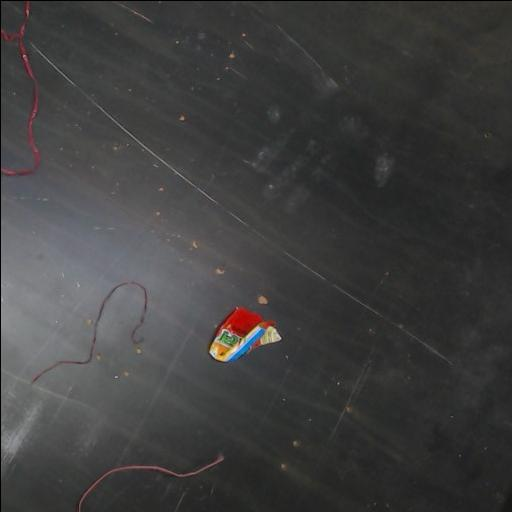conveyor belt: (1, 1, 512, 512), (1, 38, 31, 167), (1, 1, 22, 30)
packet: (208, 307, 281, 361)
thread: (31, 281, 147, 383), (78, 455, 223, 512), (1, 1, 40, 176)
